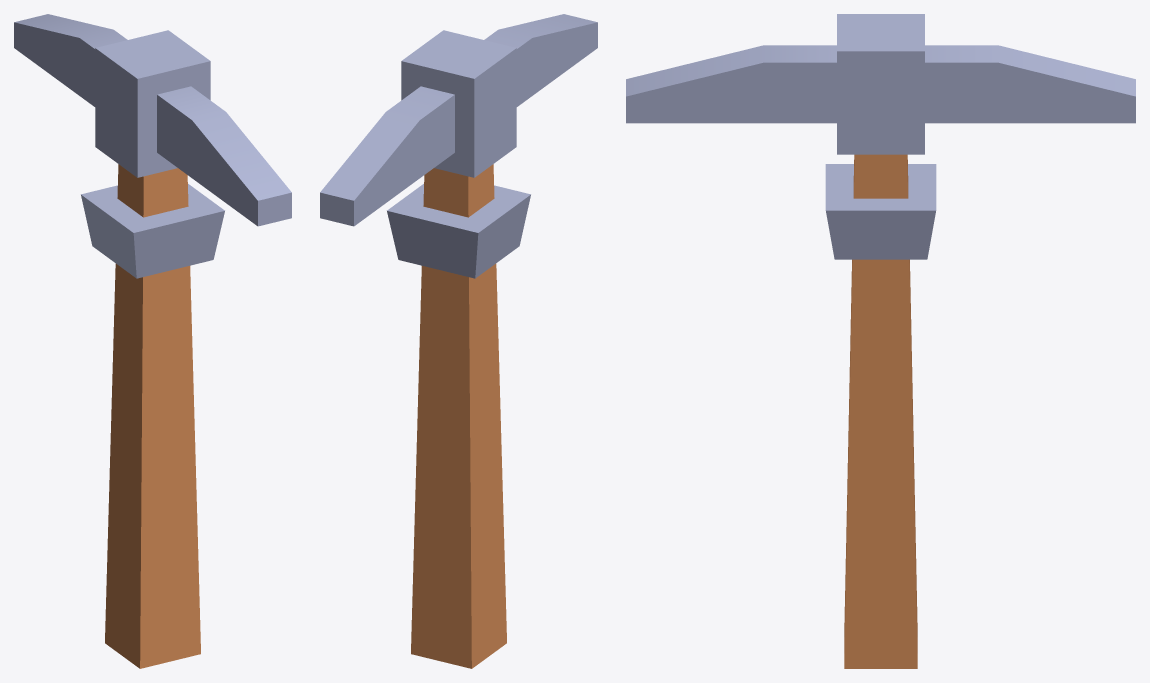
The model's file is toolPickaxe.dae.
3 renders of one model, left to right at view 1: azimuth 30°, elevation 25°; view 2: azimuth 150°, elevation 25°; view 3: azimuth 270°, elevation 25°, orthographic. The views are drawn at different scales.
Visible parts, largest first — view 1: toolPickaxe; view 2: toolPickaxe; view 3: toolPickaxe.
Part boxes in pixels (x1,y1,x2,y2): toolPickaxe: [14, 14, 291, 668]; toolPickaxe: [320, 14, 597, 668]; toolPickaxe: [626, 14, 1135, 668].
Bounding box in the file's own units: 0.1548 × 0.96 × 0.7144.
